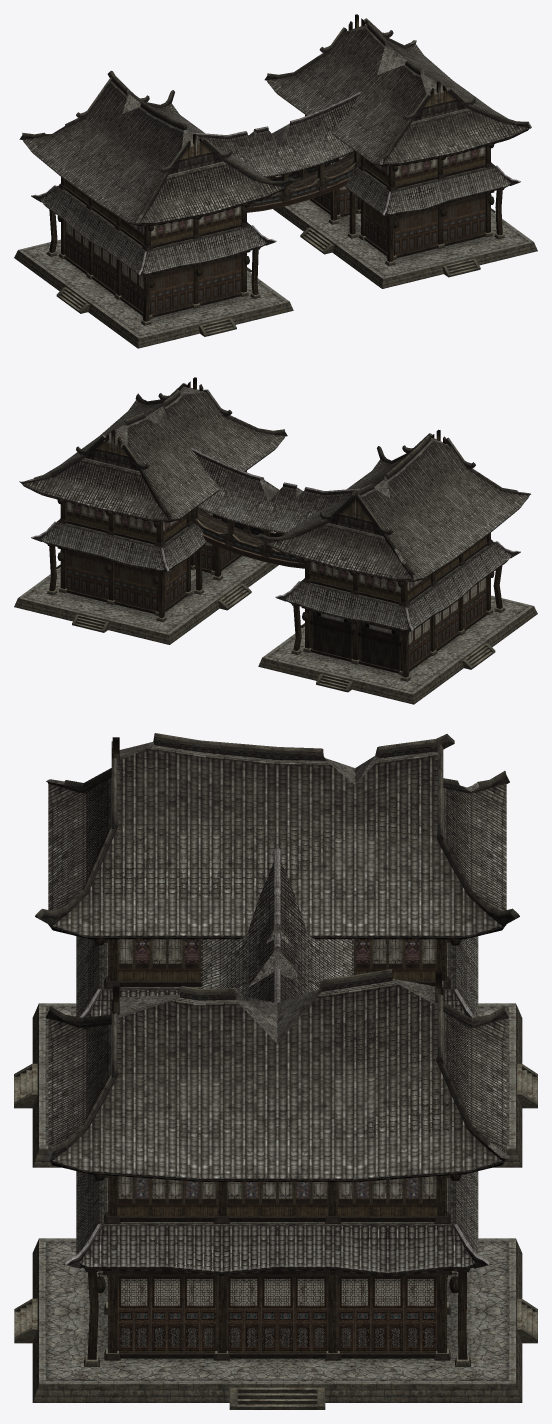
The model's file is ep-009-hotel.fbx.
The picture shows the model from 3 angles, top to bottom: view 1: azimuth 30°, elevation 25°; view 2: azimuth 150°, elevation 25°; view 3: azimuth 270°, elevation 25°; orthographic projection. The views are drawn at different scales.
Parts seen in each view (by area): view 1: ep-009-hotel03; view 2: ep-009-hotel03; view 3: ep-009-hotel03.
Part boxes in pixels (bbox=[...]): ep-009-hotel03: bbox=[14, 14, 537, 348]; ep-009-hotel03: bbox=[14, 377, 537, 704]; ep-009-hotel03: bbox=[14, 733, 537, 1409].
Bounding box in the file's own units: 35.89 × 15.09 × 19.9.
